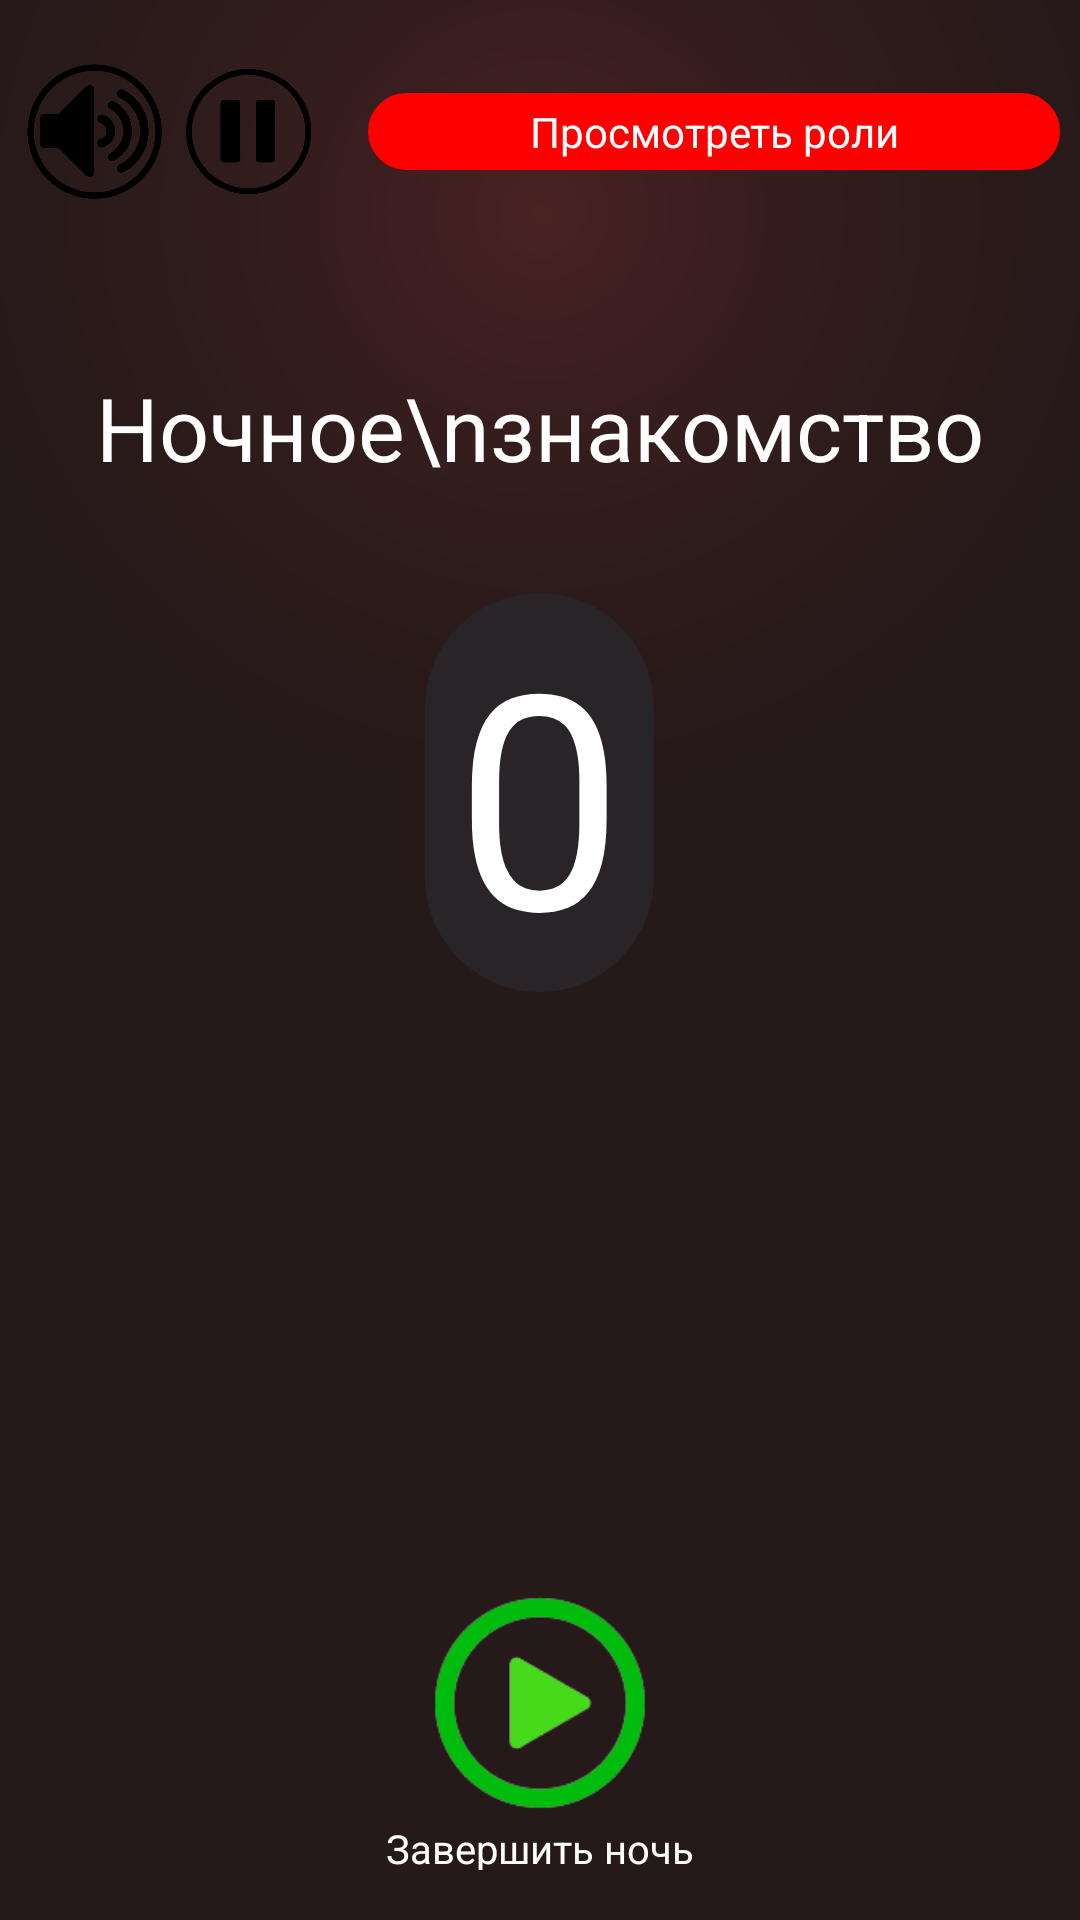

Screen size 1080px x 1920px. Icon name, then its box in pixels as (x1, y1, x2, y2):
pause: (186, 69, 311, 194)
sound: (27, 64, 162, 199)
start: (435, 1598, 645, 1808)
